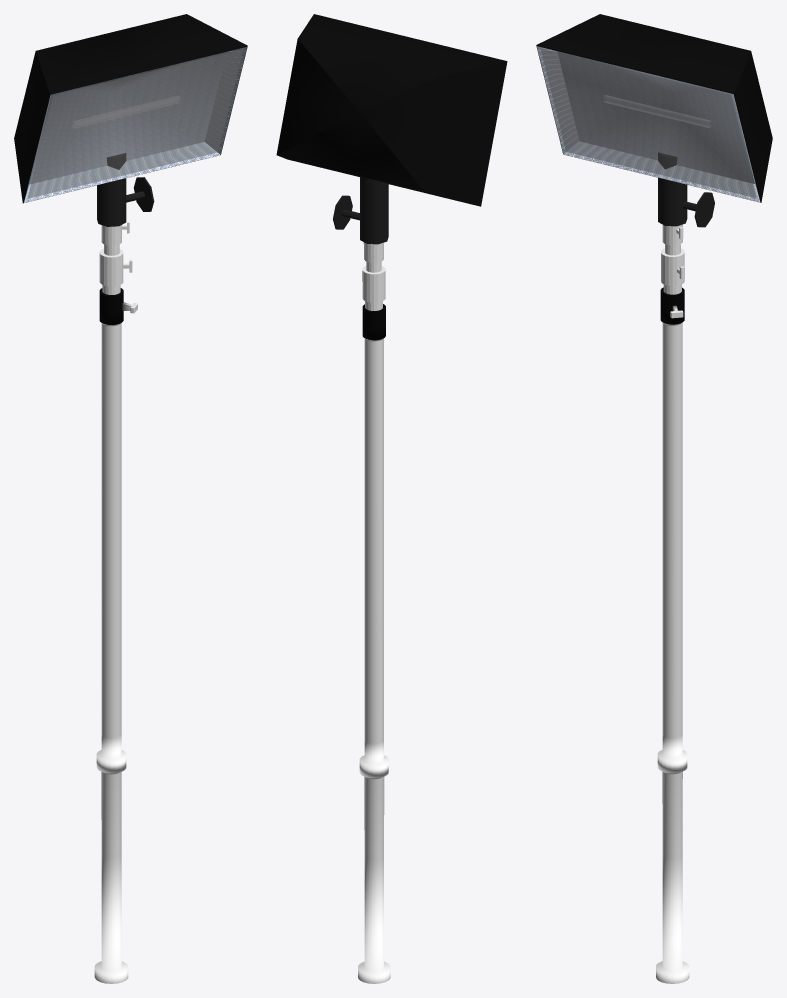
The model's file is lichtmast.FBX.
The picture shows the model from 3 angles, left to right: view 1: azimuth 30°, elevation 25°; view 2: azimuth 150°, elevation 25°; view 3: azimuth 330°, elevation 25°; orthographic projection. The views are drawn at different scales.
Parts seen in each view (by area): view 1: Headlight, StandClosed, Anschluss; view 2: Headlight, StandClosed, Anschluss; view 3: Headlight, StandClosed, Anschluss.
Part boxes in pixels (x1,y1,x2,y2): Headlight: (14, 14, 247, 203); StandClosed: (94, 221, 137, 983); Anschluss: (97, 153, 154, 226); Headlight: (276, 14, 507, 206); StandClosed: (358, 242, 390, 983); Anschluss: (333, 176, 388, 244); Headlight: (536, 14, 772, 202); StandClosed: (656, 224, 689, 983); Anschluss: (658, 152, 714, 227).
Bounding box in the file's own units: 30 × 136 × 15.92.
5 materials, 1 textured.
